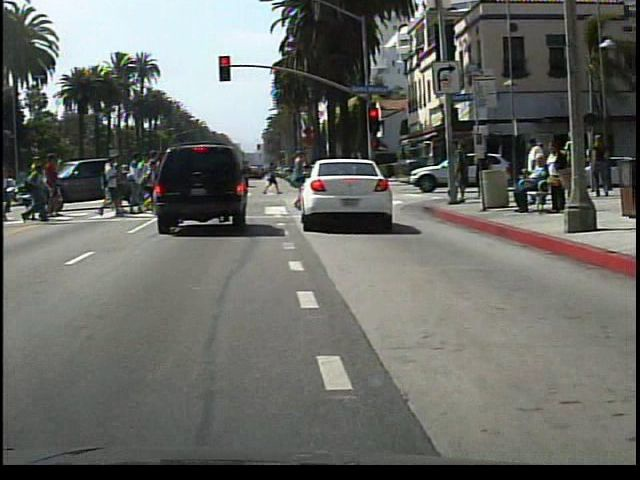person: (514, 154, 556, 215), (543, 138, 574, 216), (285, 148, 317, 214)
